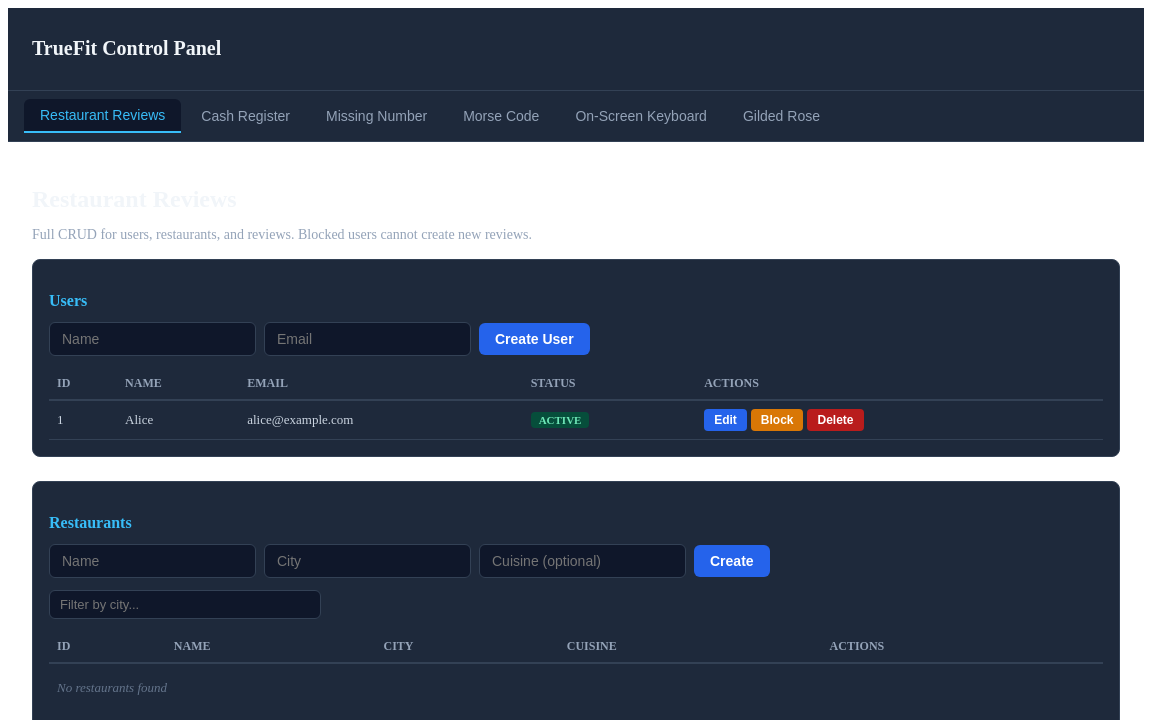
Test: ReviewsPanel — user table › block/unblock toggle
Click the button "Block" at (777, 420), box [751,409,804,431]
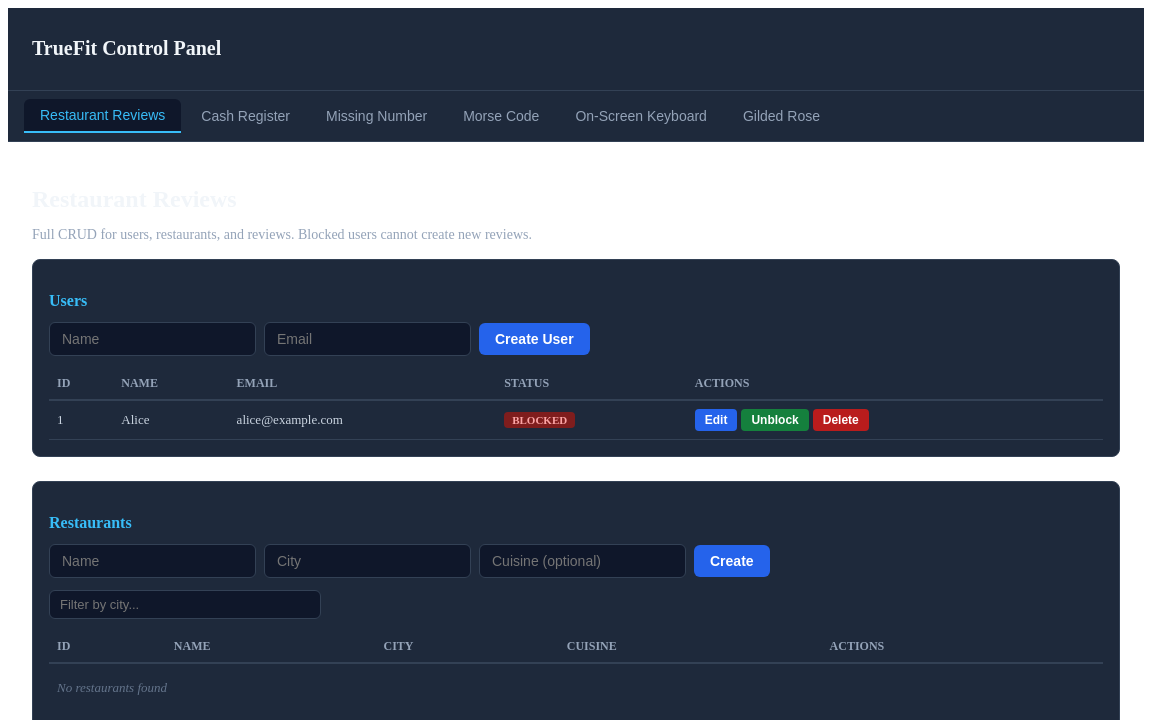
Check: the text "blocked" is shown, box [504,412,575,428]
Check: the button "Unblock" is shown, box [741,409,809,431]
